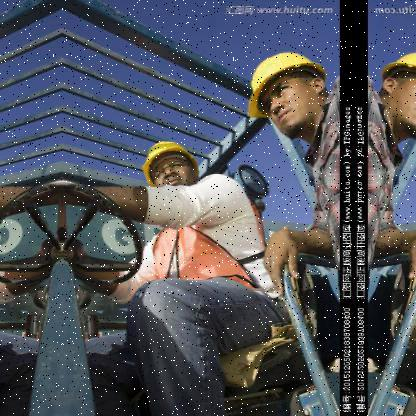Helmet: (252, 42, 328, 136), (138, 143, 206, 198)
